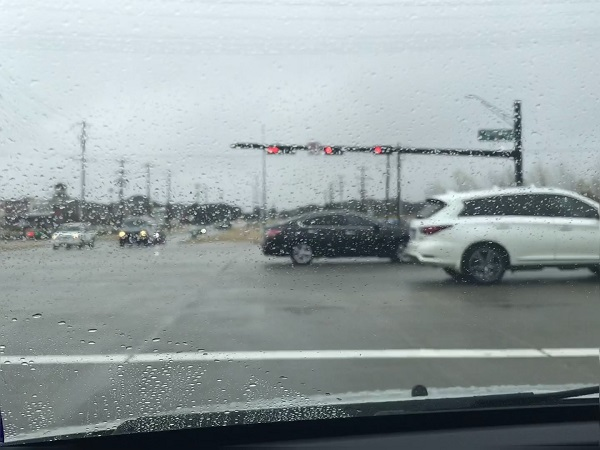car: (405, 188, 600, 286), (261, 211, 419, 268), (50, 223, 94, 250), (117, 218, 153, 246)
